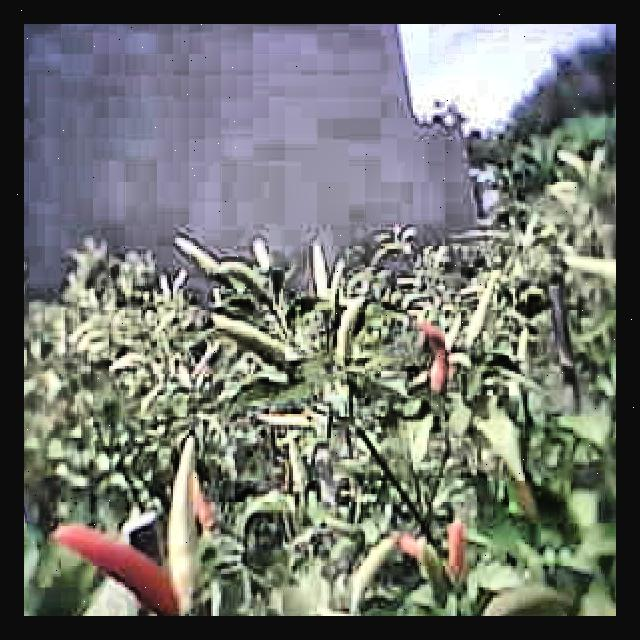Cabai: (161, 439, 241, 586), (59, 527, 172, 613), (213, 306, 294, 396), (335, 294, 382, 384), (557, 237, 616, 294), (167, 230, 234, 278), (442, 504, 475, 577), (430, 319, 458, 396)
